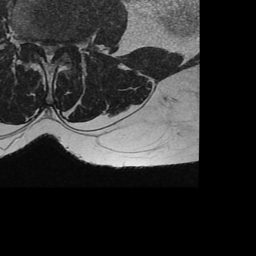CCS_stenosis: (45, 33, 52, 69)
LFS_severe_stenosis: (61, 34, 71, 55)
LLS_stenosis: (52, 35, 61, 61)
RFS_stenosis: (29, 32, 38, 52)
RLS_stenosis: (38, 35, 45, 60)
